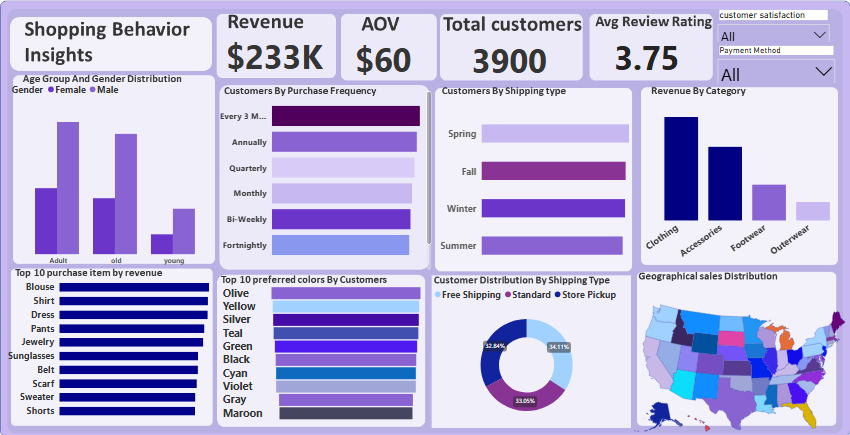

This screenshot's page, from the dashboard's own definition file:
{"tool":"powerbi","page":{"name":"Page 1","canvas":[1613,891],"ordinal":0},"visuals":[{"type":"card","fields":{"Values":["Dax measure.Total Revenue"]},"box":[456.5,108.7,201.1,99.6],"z":0},{"type":"card","fields":{"Values":["Dax measure.Avg order value"]},"box":[657.5,108.7,179.3,106.9],"z":1000},{"type":"card","fields":{"Values":["Dax measure.Total customers"]},"box":[842.3,121.4,253.6,86.9],"z":2000},{"type":"card","fields":{"Values":["Dax measure.Avg review rating"]},"box":[1112.2,108.7,195.6,103.2],"z":3000},{"type":"slicer","fields":{"Values":["shopping_behavior_updated.Payment Method"]},"box":[1324.1,137.7,226.4,70.6],"z":4000},{"type":"slicer","fields":{"Values":["shopping_behavior_updated.customer satisfaction"]},"box":[1324.8,73.6,216,60.8],"z":6000},{"type":"barChart","fields":{"Y":["Dax measure.Total Revenue"],"Category":["shopping_behavior_updated.Item Purchased"]},"box":[83.2,534.4,404.8,270.4],"z":7000},{"type":"columnChart","fields":{"Y":["Dax measure.Total Revenue"],"Category":["shopping_behavior_updated.Category"]},"box":[1184,225.6,398.4,308.8],"z":8000},{"type":"donutChart","fields":{"Category":["shopping_behavior_updated.Shipping Type"],"Y":["Dax measure.Total customers"]},"box":[827.8,556.1,342.3,259],"z":9000},{"type":"shapeMap","fields":{"Series":["shopping_behavior_updated.Location"],"Value":["Sum(shopping_behavior_updated.Purchase Amount (USD))"],"Category":["shopping_behavior_updated.Location"]},"box":[1162.9,536.2,420.2,340.5],"z":10000},{"type":"clusteredBarChart","fields":{"Category":["shopping_behavior_updated.Season"],"Y":["Dax measure.Total customers"]},"box":[842.3,240.9,342.3,302.5],"z":11000},{"type":"funnel","fields":{"Category":["shopping_behavior_updated.Color"],"Y":["Dax measure.Total customers"]},"box":[460.8,558.4,361.6,246.4],"z":14000},{"type":"clusteredColumnChart","fields":{"Y":["Dax measure.Total Revenue"],"Series":["shopping_behavior_updated.Gender"],"Category":["shopping_behavior_updated.age fixed"]},"box":[91.2,196.8,376,340.8],"z":15000},{"type":"clusteredBarChart","fields":{"Category":["shopping_behavior_updated.Frequency of Purchases"],"Y":["Dax measure.Total customers"]},"box":[440.2,208.3,396.7,331.5],"z":16000}]}

Visuals, with their boxes on the page's 1613x891 design canvas (x1, y1, x2, y2). These are canvas units, not pixel positions in the 850x435 screenshot, which may show the page scaled, cropped or inside an application window:
card - Dax measure.Total Revenue: Rect(456, 109, 658, 208)
card - Dax measure.Avg order value: Rect(658, 109, 837, 216)
card - Dax measure.Total customers: Rect(842, 121, 1096, 208)
card - Dax measure.Avg review rating: Rect(1112, 109, 1308, 212)
slicer - shopping_behavior_updated.Payment Method: Rect(1324, 138, 1550, 208)
slicer - shopping_behavior_updated.customer satisfaction: Rect(1325, 74, 1541, 134)
barChart - Dax measure.Total Revenue x shopping_behavior_updated.Item Purchased: Rect(83, 534, 488, 805)
columnChart - Dax measure.Total Revenue x shopping_behavior_updated.Category: Rect(1184, 226, 1582, 534)
donutChart - shopping_behavior_updated.Shipping Type x Dax measure.Total customers: Rect(828, 556, 1170, 815)
shapeMap - shopping_behavior_updated.Location x Sum(shopping_behavior_updated.Purchase Amount (USD)): Rect(1163, 536, 1583, 877)
clusteredBarChart - shopping_behavior_updated.Season x Dax measure.Total customers: Rect(842, 241, 1185, 543)
funnel - shopping_behavior_updated.Color x Dax measure.Total customers: Rect(461, 558, 822, 805)
clusteredColumnChart - Dax measure.Total Revenue x shopping_behavior_updated.Gender: Rect(91, 197, 467, 538)
clusteredBarChart - shopping_behavior_updated.Frequency of Purchases x Dax measure.Total customers: Rect(440, 208, 837, 540)
